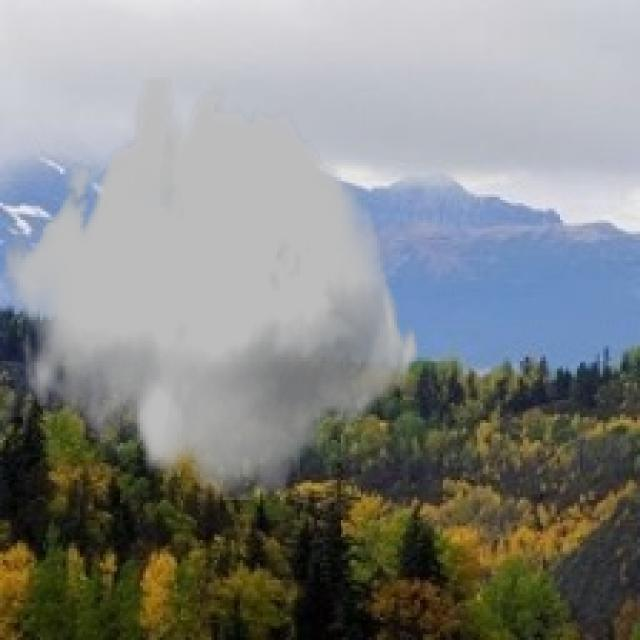Smoke: (3, 77, 420, 500)
